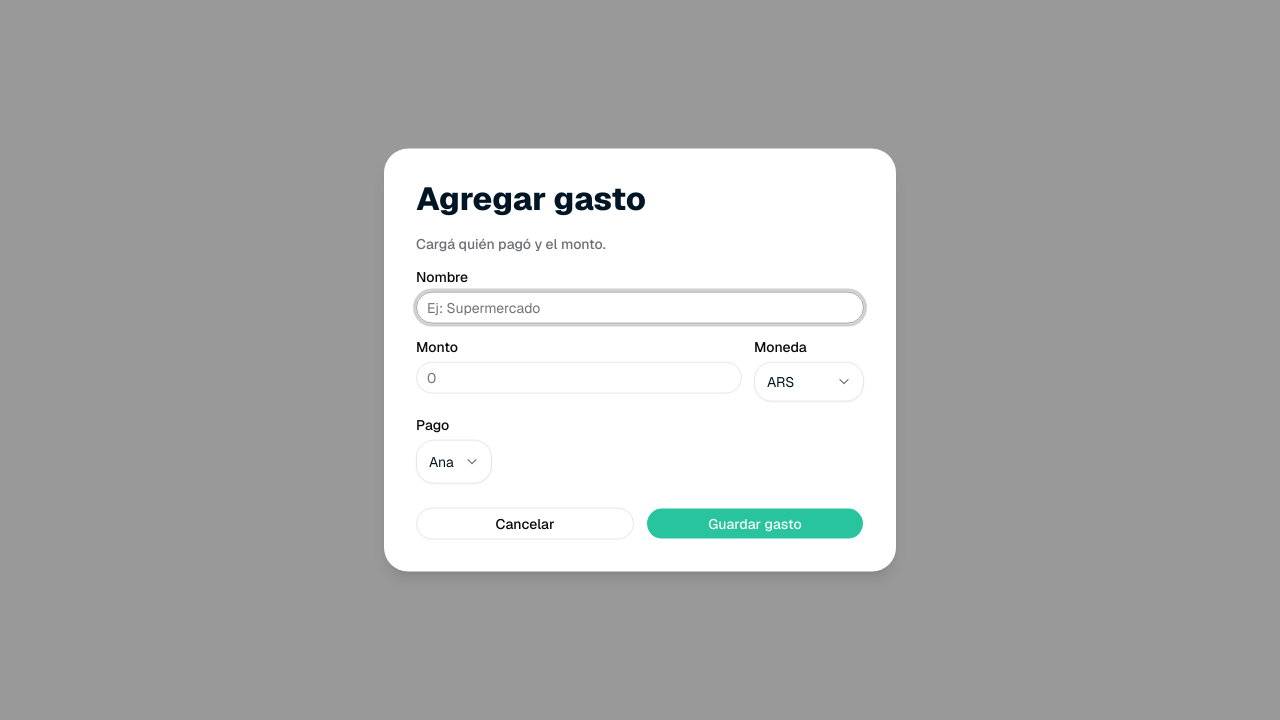
it: AddExpenseDialog › muestra el estado de carga mientras guarda el gasto
Type "Supermercado" into the field labelled "Nombre" at (640, 307), box [416, 291, 864, 323]
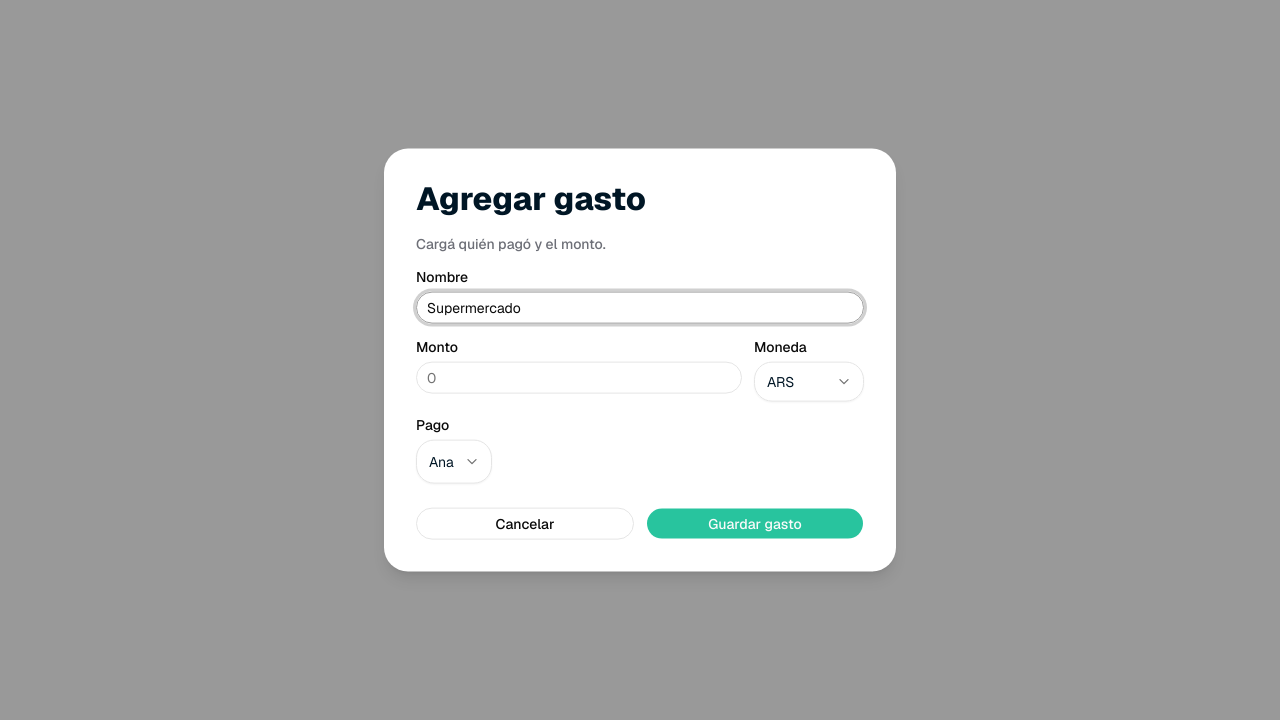
Type "5" into the field labelled "Monto" at (579, 377), box [416, 361, 742, 393]
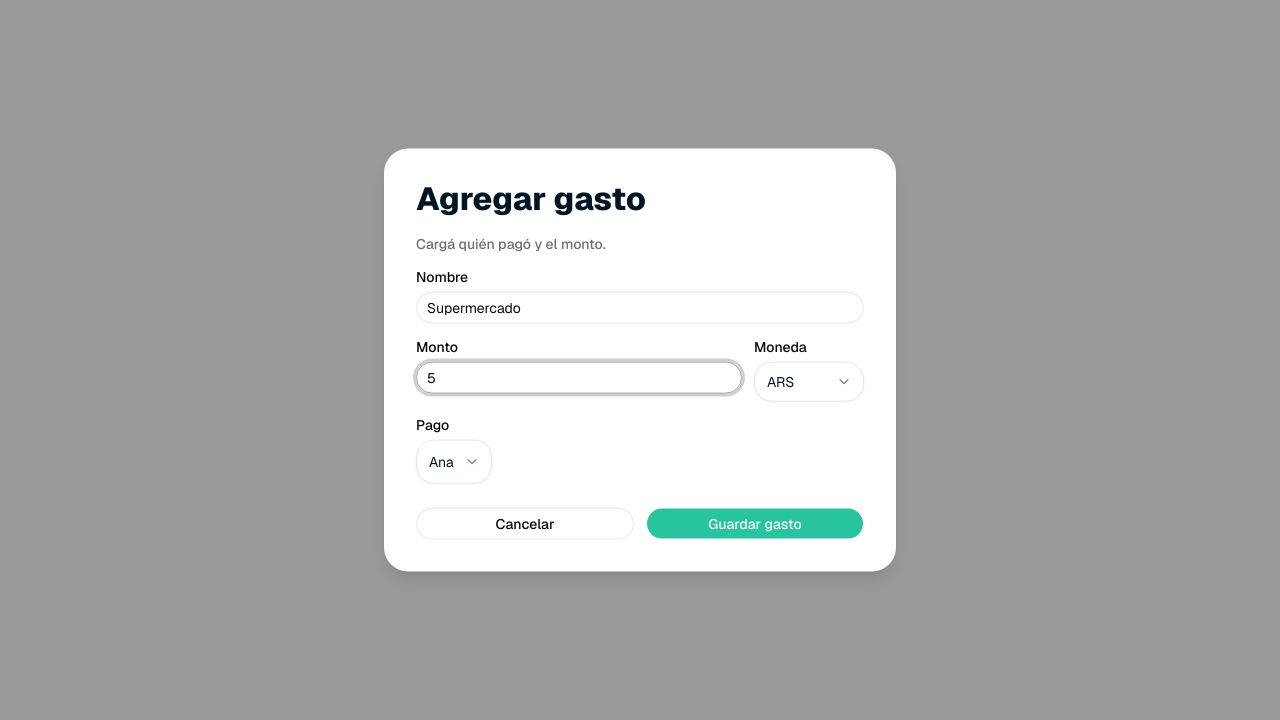
Click the button "Guardar gasto" at (755, 523), box [646, 507, 864, 539]
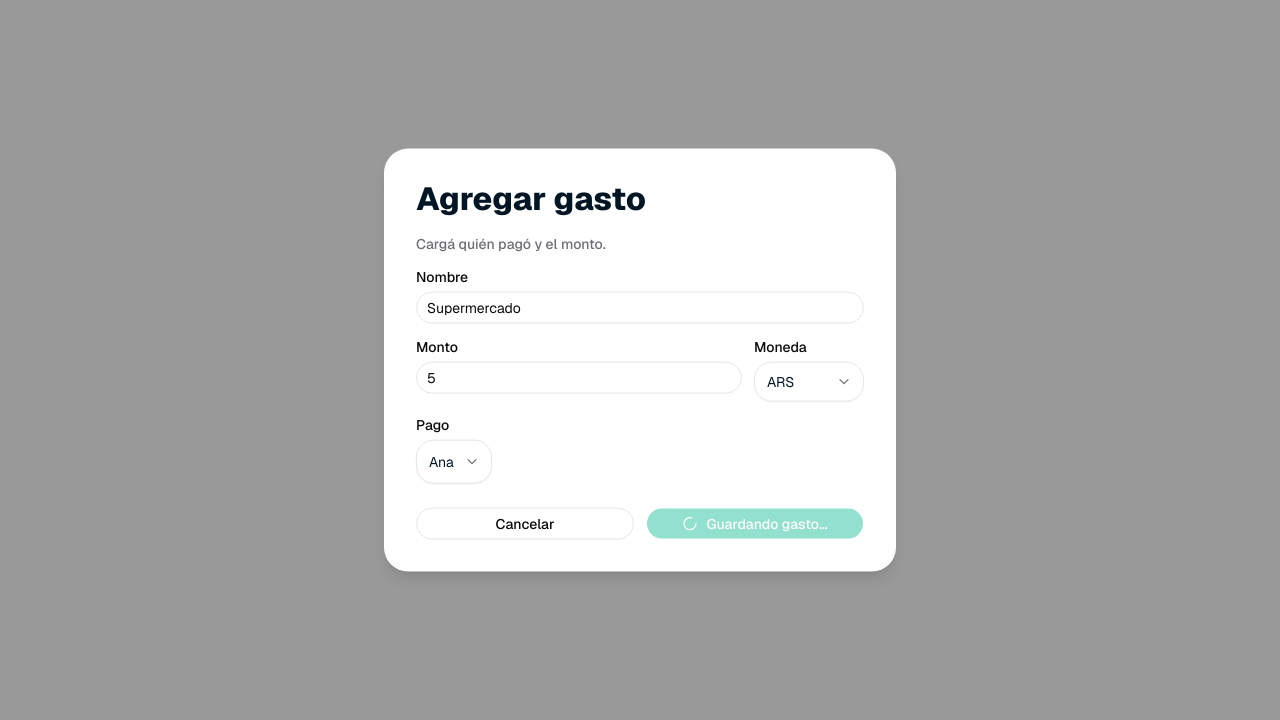
Check: the message named "Cargando" is shown, box [682, 515, 698, 531]
Check: the text "Guardando gasto…" is shown, box [706, 513, 828, 533]
